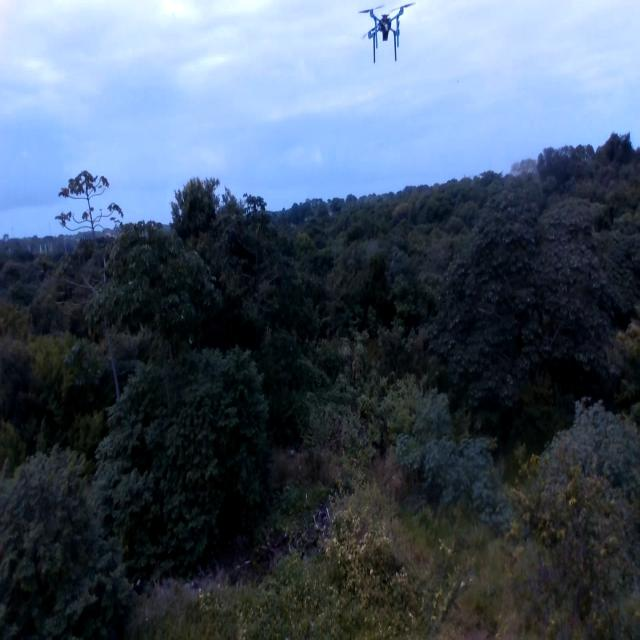-uav-: (356, 0, 420, 79)
